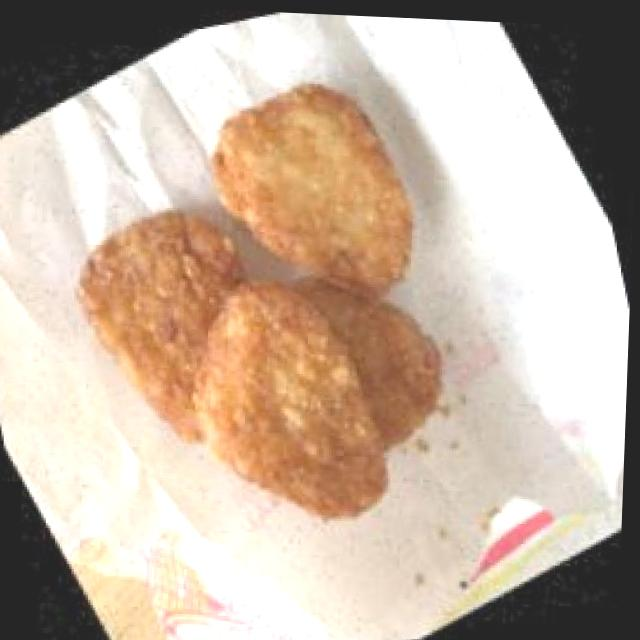triangle_hash_brown: (0, 11, 580, 628)
